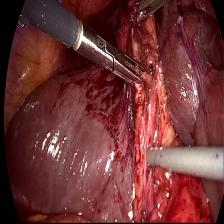Grasper: (101, 48, 149, 90), (128, 0, 170, 35)
Irrigator: (142, 142, 174, 175)
